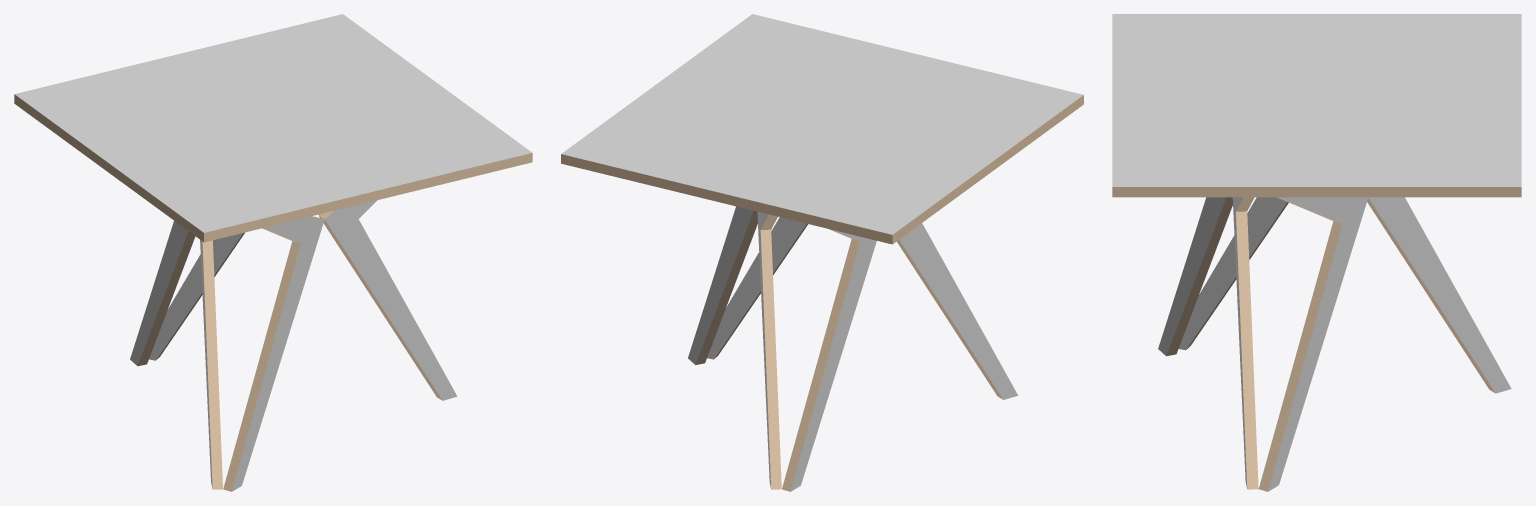
File: table_3623d7ff.glb
The picture shows the model from 3 angles, left to right: view 1: azimuth 30°, elevation 25°; view 2: azimuth 150°, elevation 25°; view 3: azimuth 270°, elevation 25°; orthographic projection. The views are drawn at different scales.
Parts seen in each view (by area): view 1: Mesa_cnc1, Patas_1_3, Patas_1_1, Patas_1_2; view 2: Mesa_cnc1, Patas_1_2, Patas_1_1, Patas_1_3; view 3: Mesa_cnc1, Patas_1_1, Patas_1_3, Patas_1_2.
Part boxes in pixels (bbox=[...]): Mesa_cnc1: bbox=[14, 14, 532, 242]; Patas_1_3: bbox=[200, 216, 324, 491]; Patas_1_1: bbox=[319, 200, 457, 400]; Patas_1_2: bbox=[130, 221, 244, 366]; Mesa_cnc1: bbox=[561, 14, 1083, 244]; Patas_1_2: bbox=[757, 211, 876, 491]; Patas_1_1: bbox=[688, 206, 808, 364]; Patas_1_3: bbox=[896, 223, 1017, 399]; Mesa_cnc1: bbox=[1112, 14, 1521, 197]; Patas_1_1: bbox=[1232, 197, 1367, 491]; Patas_1_3: bbox=[1158, 197, 1288, 356]; Patas_1_2: bbox=[1367, 197, 1511, 393].
Bounding box in the file's own units: 900 × 750 × 900.
